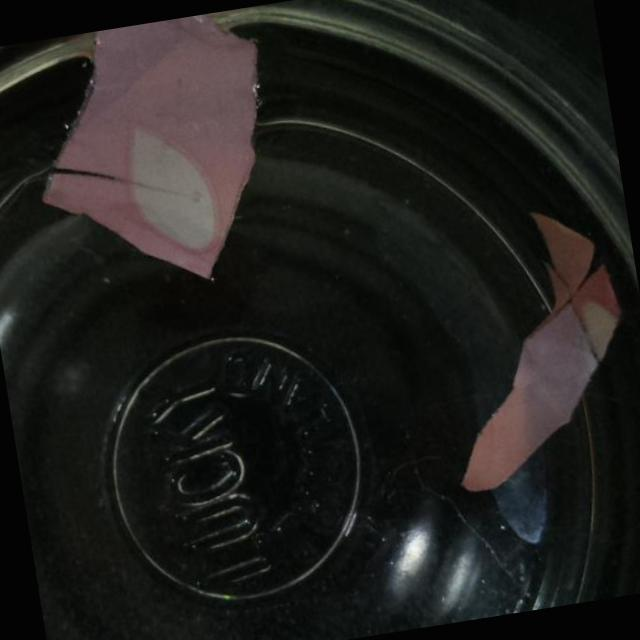fiber: (17, 8, 292, 306), (415, 194, 640, 498)
